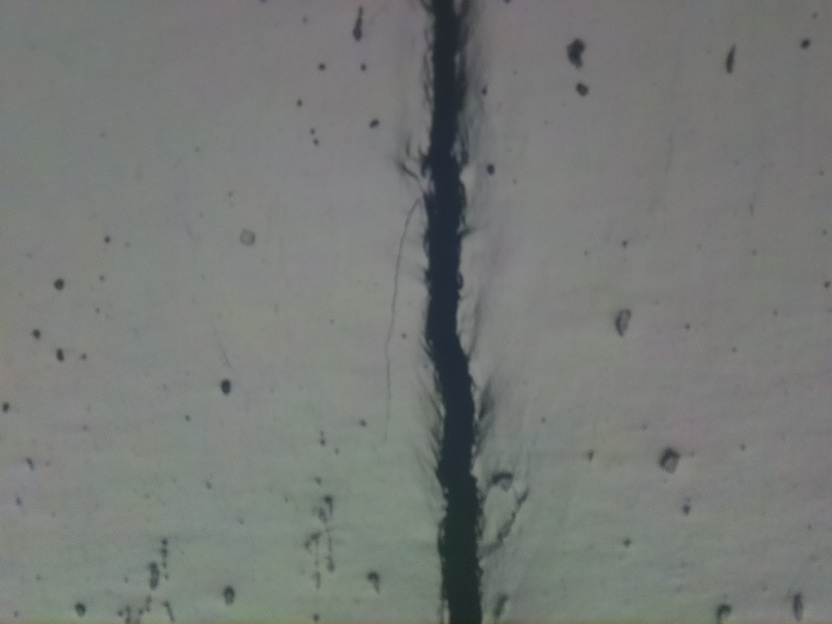crack: (424, 0, 479, 622)
